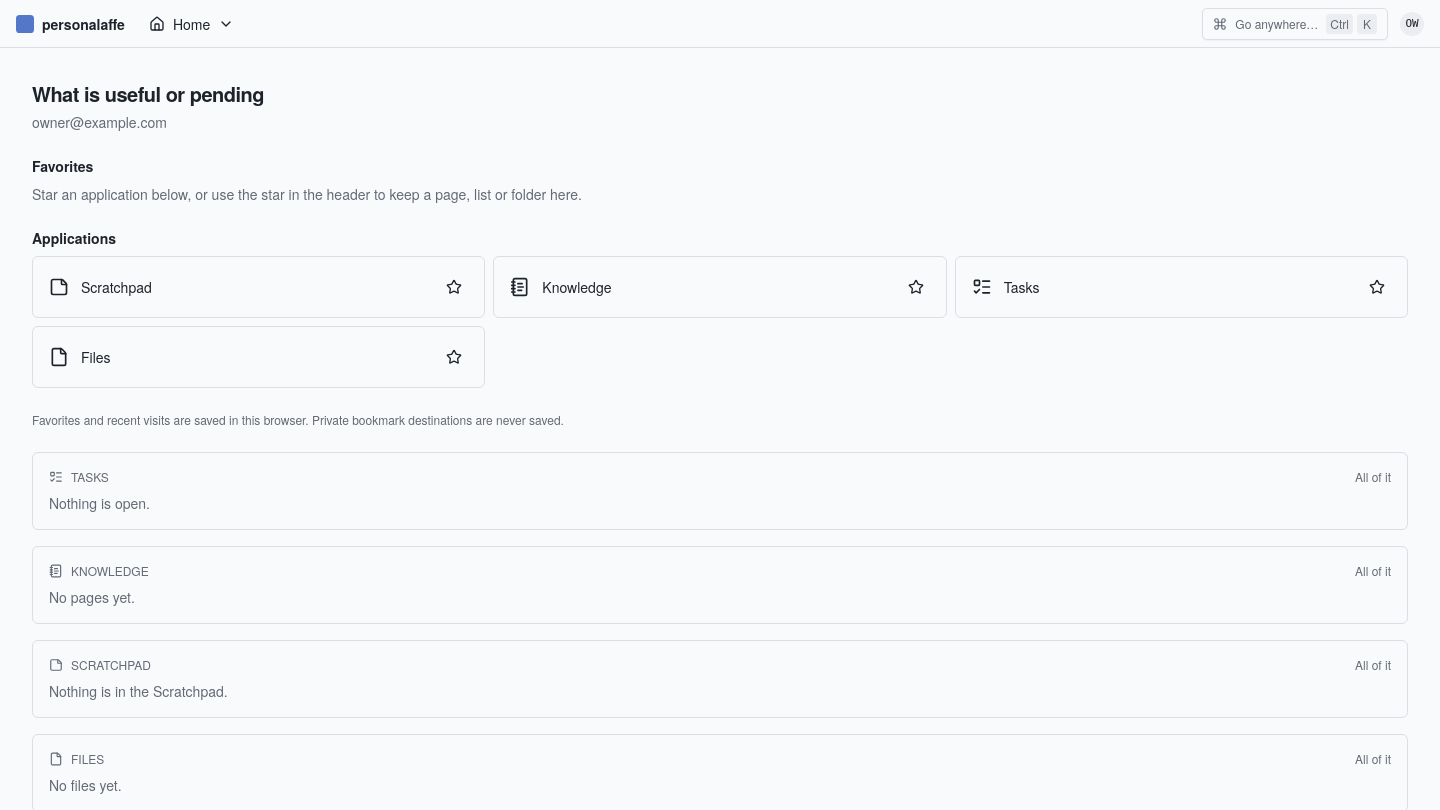
Test: the frame › offers the applications this workspace has switched on
Click the button with aria-label "Switch application:". click: (192,24)
box: [137,2,246,46]
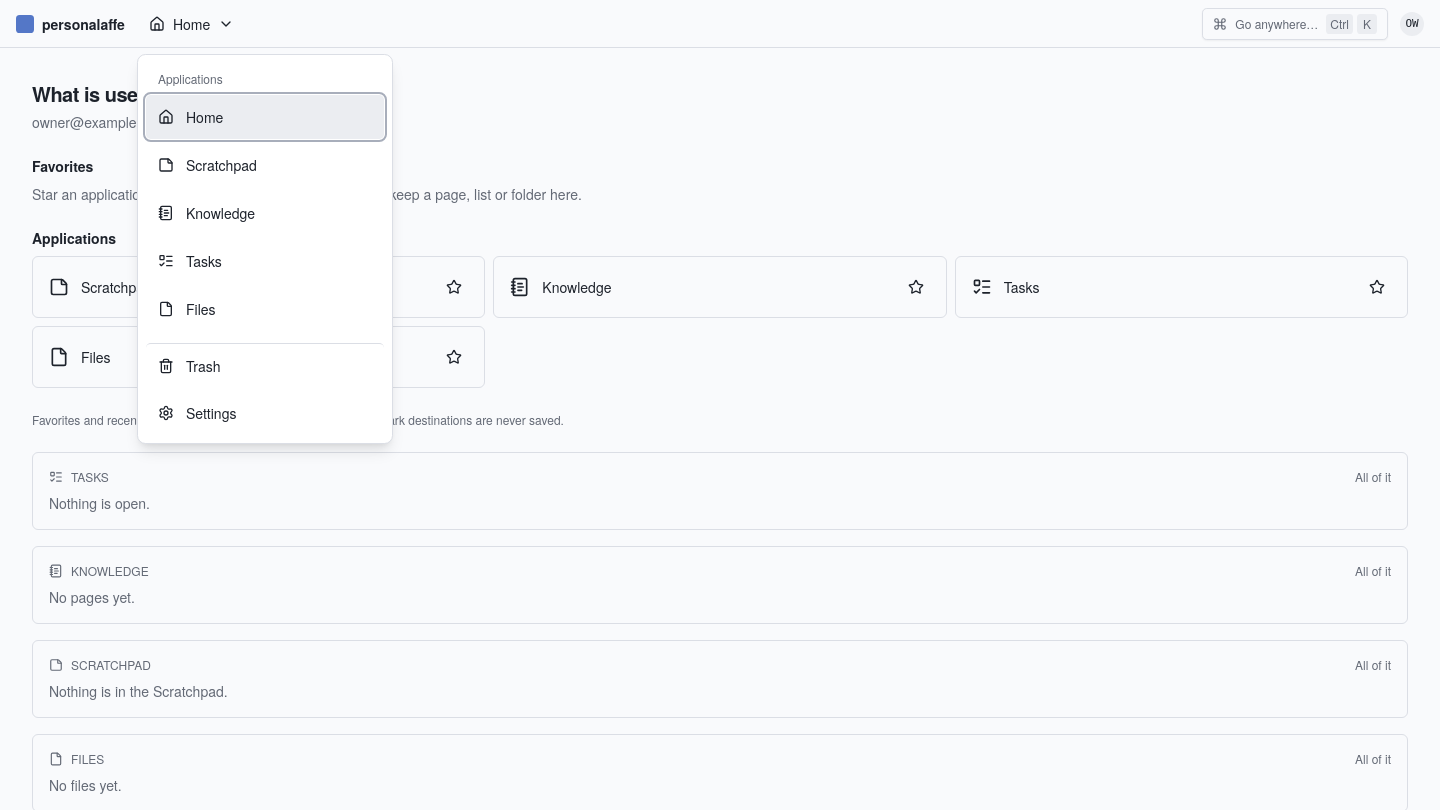
Expected: the link "Home" is shown, [146,95,384,139]
Expected: the link "Scratchpad" is shown, [158,155,257,175]
Expected: the 1st link "Knowledge" is shown, [158,203,255,223]
